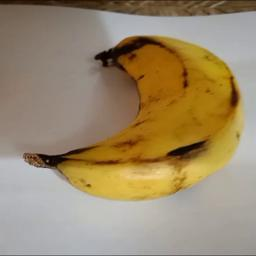Banana Semifresh: (18, 35, 248, 202)
